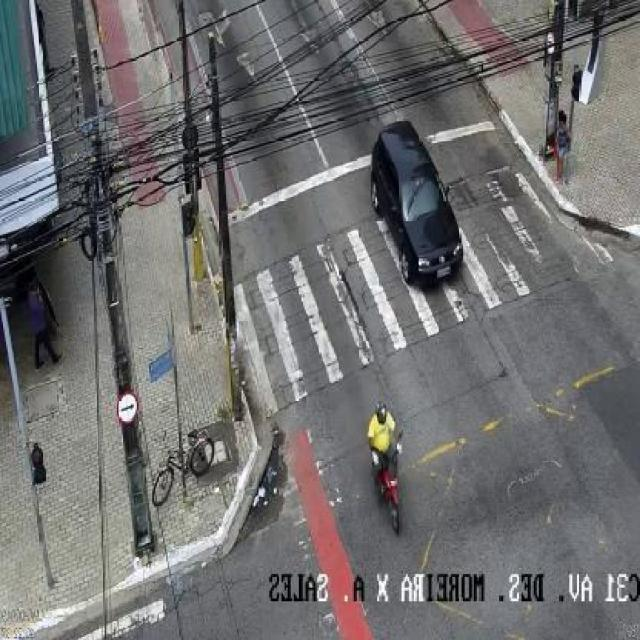Car: (368, 120, 463, 290)
Cycle: (368, 399, 406, 534)
